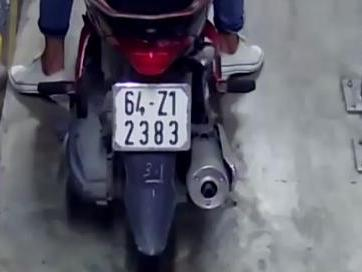num_plate: (113, 82, 190, 153)
